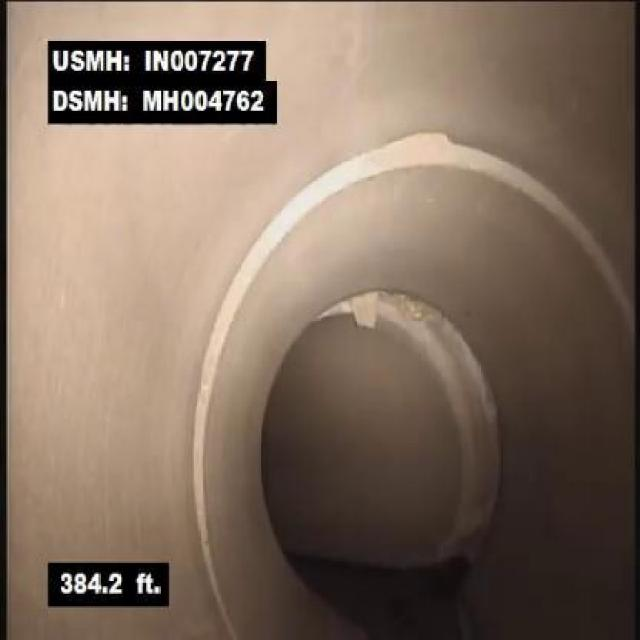Joint offset: (429, 129, 606, 263), (280, 125, 428, 232), (205, 220, 277, 337)
